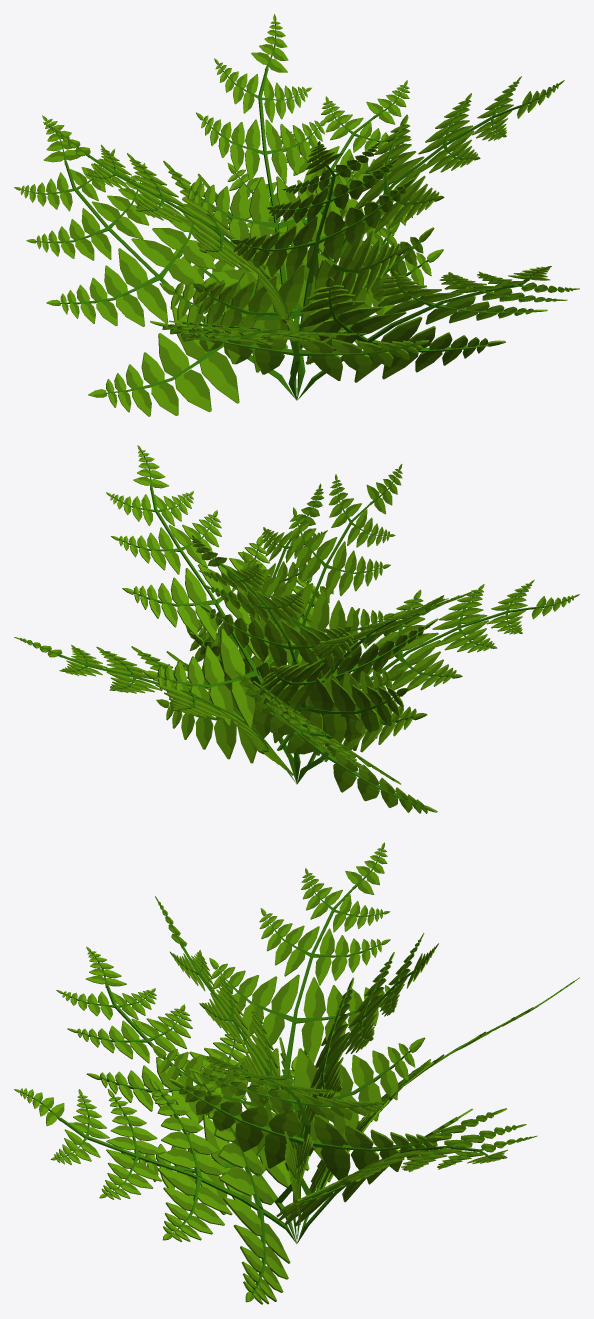
File: Fern.fbx
3 views of the same model, one above another, from view 1: azimuth 30°, elevation 25°; view 2: azimuth 150°, elevation 25°; view 3: azimuth 270°, elevation 25° (orthographic). The views are drawn at different scales.
Visible parts, largest first — view 1: Fern; view 2: Fern; view 3: Fern.
Boxes of the visible parts, x1,y1,x2,y2 form: Fern: (14, 14, 579, 416); Fern: (14, 445, 579, 813); Fern: (14, 842, 579, 1304).
Bounding box in the file's own units: 321 × 226 × 357.
